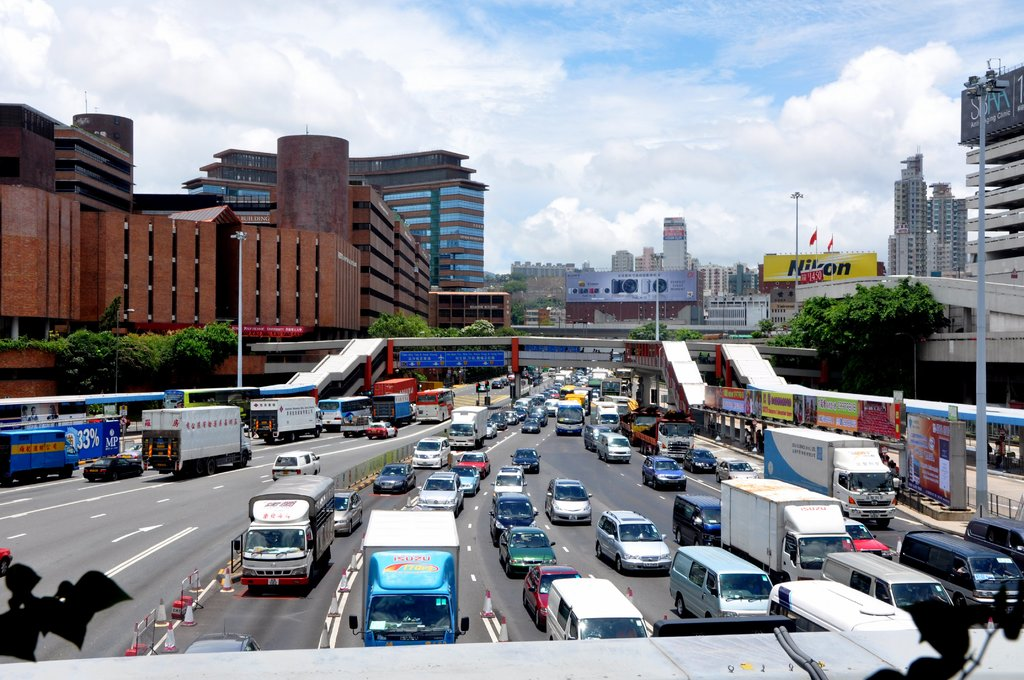Car: (190, 371, 1023, 643), (497, 526, 557, 578), (79, 446, 141, 482), (270, 450, 321, 477), (362, 420, 395, 437)
